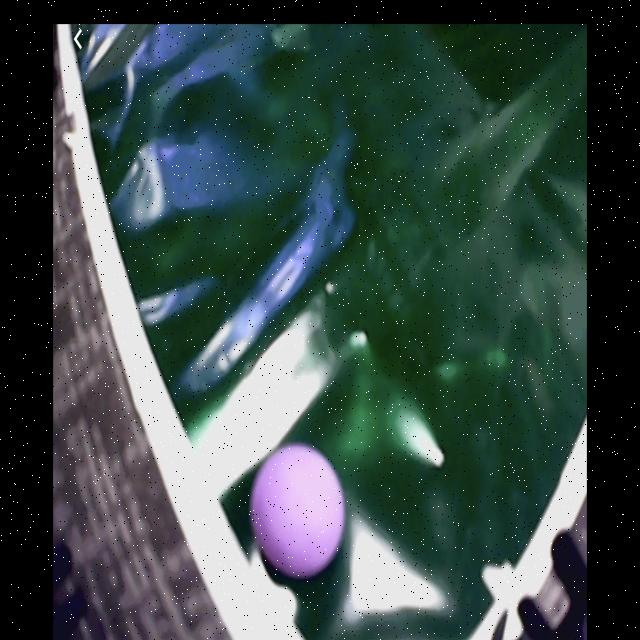ball: (252, 447, 346, 577)
